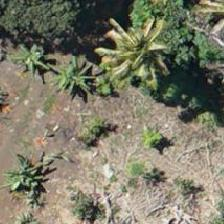coconut_tree: (93, 8, 183, 98)
